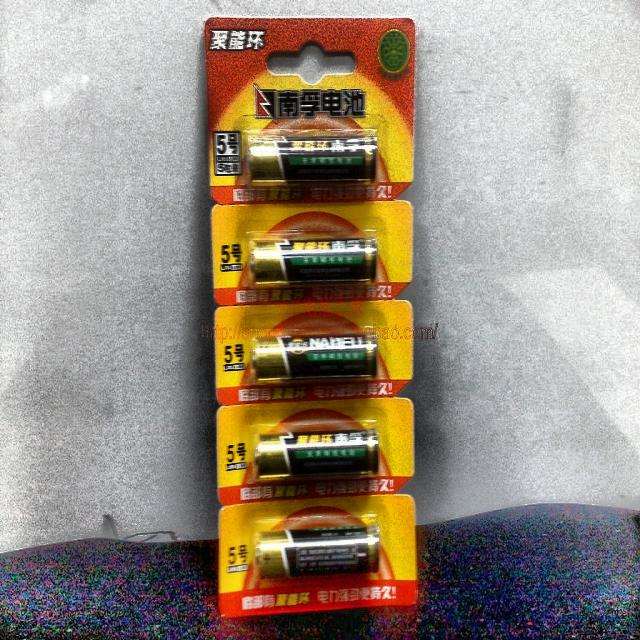Non-Valuable Waste - Batteries: (246, 133, 378, 187), (255, 525, 380, 578), (250, 238, 378, 285), (251, 335, 378, 382), (255, 430, 379, 478)
